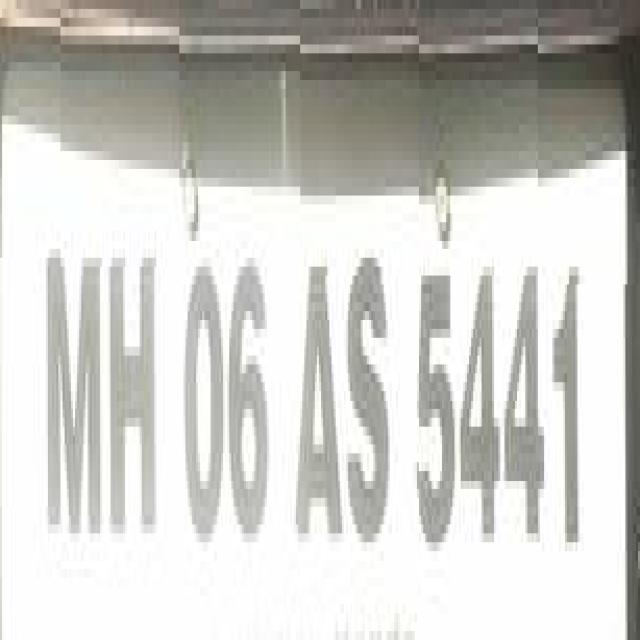license_plate: (0, 53, 613, 640)
